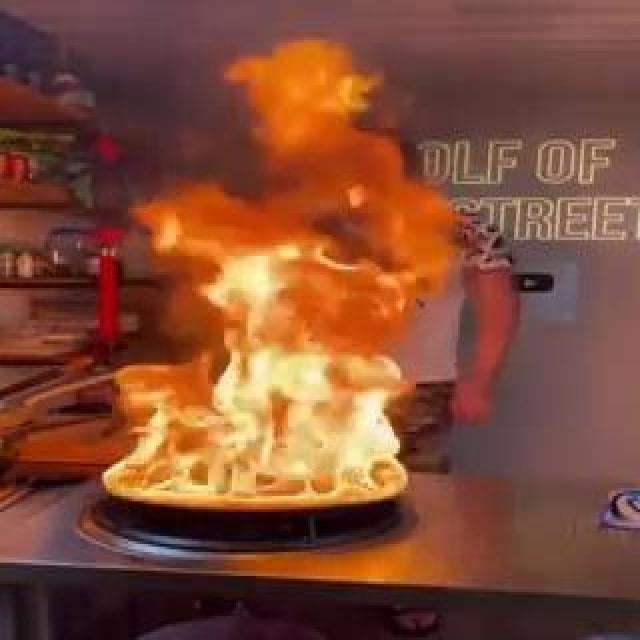Fire: (261, 312, 364, 360)
